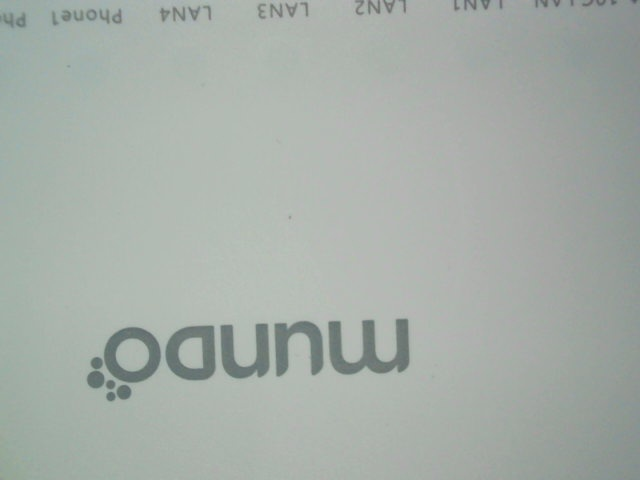BI_MUNDO: (79, 299, 428, 405)
